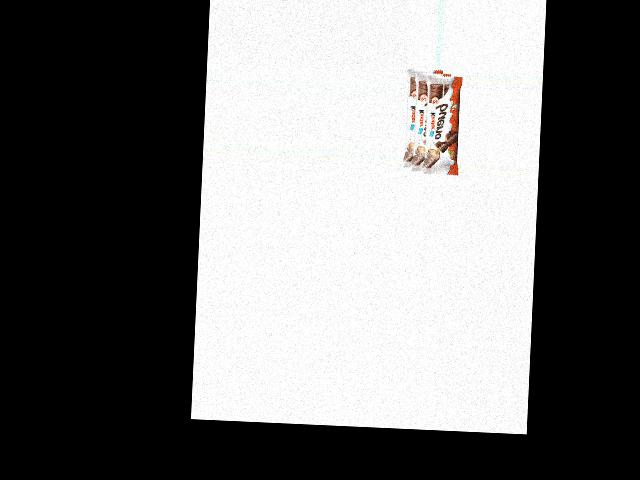chocolate: (402, 69, 463, 173)
